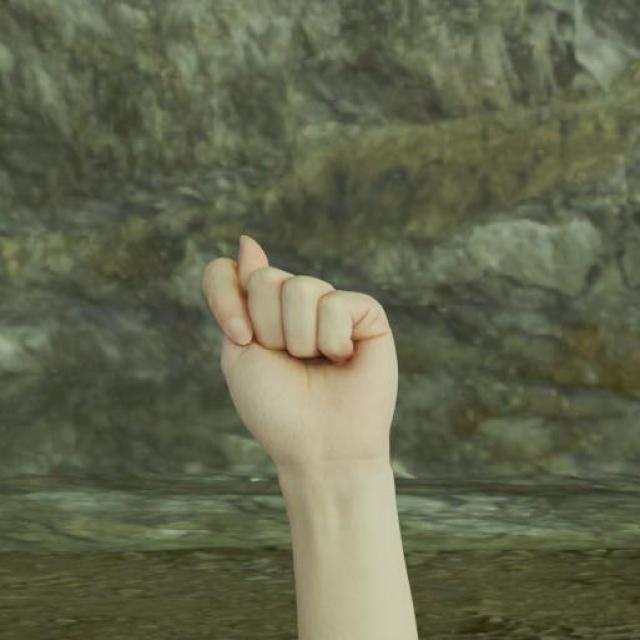T: (197, 230, 402, 468)
